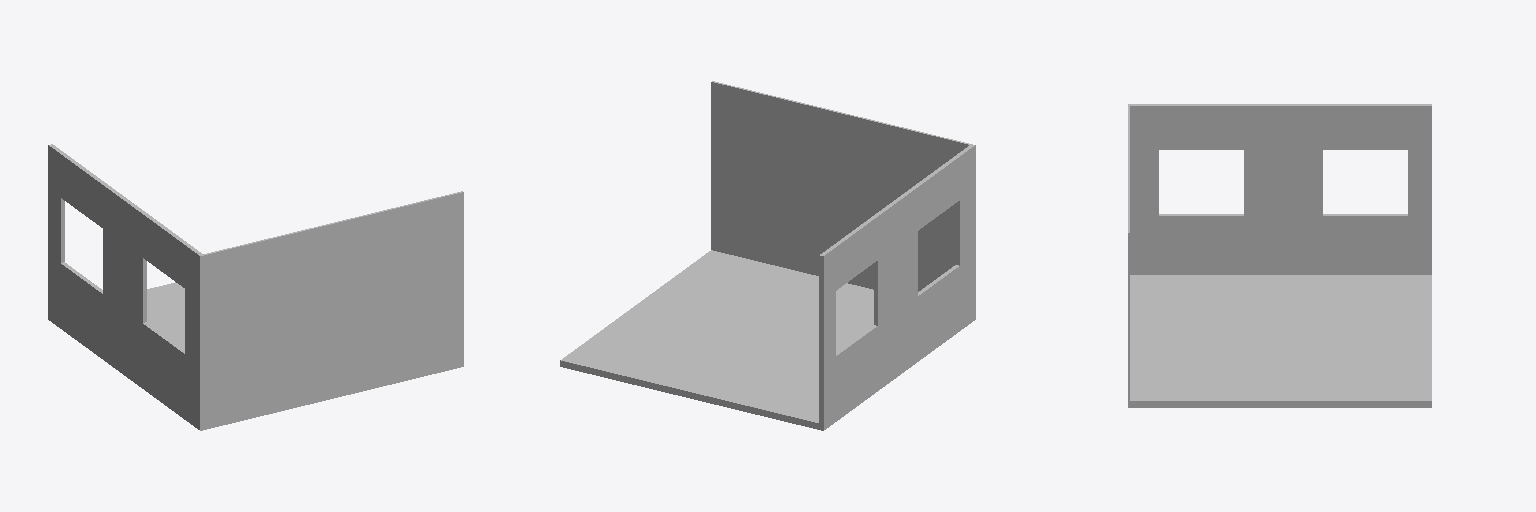
Rendered from 4x4 third-1.obj.
The picture shows the model from 3 angles: view 1: azimuth 30°, elevation 25°; view 2: azimuth 150°, elevation 25°; view 3: azimuth 270°, elevation 25°; orthographic projection.
Visible parts, largest first — view 1: 4x4 third-1; view 2: 4x4 third-1; view 3: 4x4 third-1.
Boxes of the visible parts, x1,y1,x2,y2 form: 4x4 third-1: [48, 144, 463, 430]; 4x4 third-1: [560, 81, 975, 430]; 4x4 third-1: [1128, 104, 1431, 407].
Bounding box in the file's own units: 126 × 80 × 126.